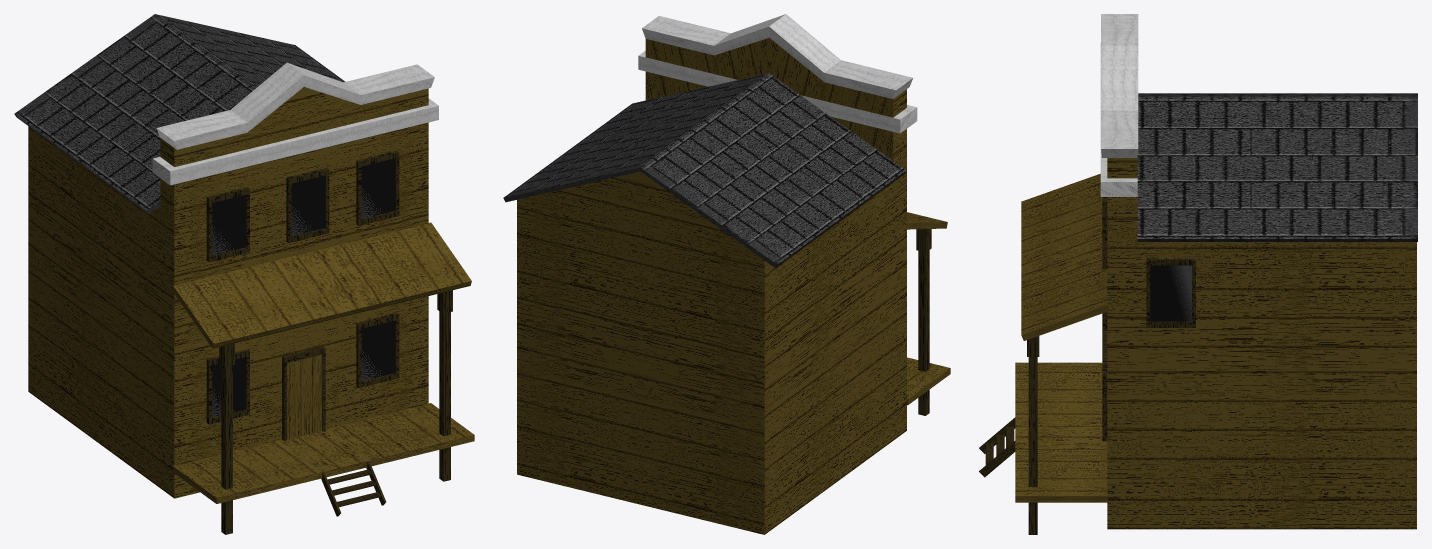
Rendered from Wild west building 1.fbx.
3 views of the same model, side by side, from view 1: azimuth 30°, elevation 25°; view 2: azimuth 150°, elevation 25°; view 3: azimuth 270°, elevation 25° (orthographic). The views are drawn at different scales.
Visible parts, largest first — view 1: Cube, Cube.001, Cube.006, Cube.008, Cube.007, Cube.005, Cube.002, Cube.009, Cube.003, Cube.004; view 2: Cube, Cube.006, Cube.008, Cube.002, Cube.001; view 3: Cube, Cube.006, Cube.001, Cube.008, Cube.007, Cube.005, Cube.002, Cube.003.
Part boxes in pixels (bbox=[...]): Cube: bbox=[28, 87, 428, 498]; Cube.001: bbox=[172, 222, 474, 503]; Cube.006: bbox=[14, 14, 345, 213]; Cube.008: bbox=[152, 62, 438, 185]; Cube.007: bbox=[212, 158, 394, 417]; Cube.005: bbox=[206, 150, 399, 424]; Cube.002: bbox=[219, 290, 452, 534]; Cube.009: bbox=[287, 354, 322, 439]; Cube.003: bbox=[321, 461, 386, 516]; Cube.004: bbox=[282, 346, 325, 440]; Cube: bbox=[517, 38, 906, 534]; Cube.006: bbox=[503, 73, 906, 267]; Cube.008: bbox=[638, 14, 917, 133]; Cube.002: bbox=[916, 229, 931, 415]; Cube.001: bbox=[906, 212, 950, 405]; Cube: bbox=[1107, 158, 1416, 529]; Cube.006: bbox=[1137, 93, 1417, 241]; Cube.001: bbox=[1015, 173, 1110, 502]; Cube.008: bbox=[1100, 14, 1138, 196]; Cube.007: bbox=[1150, 265, 1191, 321]; Cube.005: bbox=[1102, 197, 1195, 441]; Cube.002: bbox=[1027, 336, 1039, 534]; Cube.003: bbox=[979, 417, 1015, 477].
Size of the model in its own units: 1742 by 2408 by 2221.
Materials: 5 (5 with a texture image).
